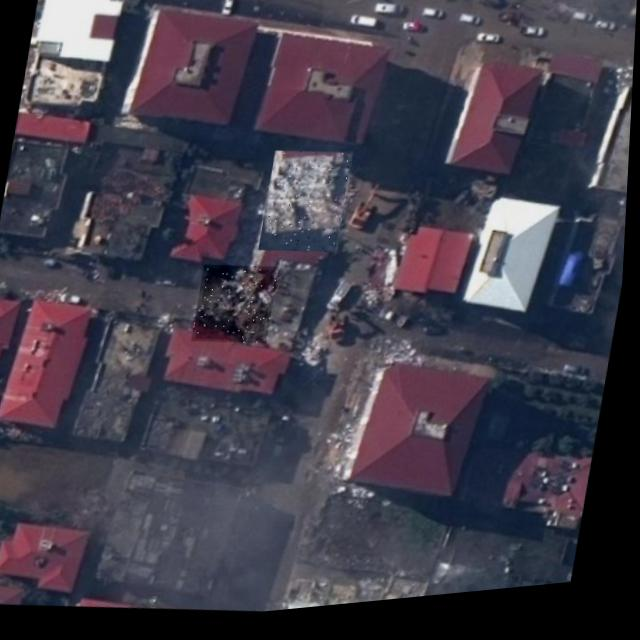Rubble: (260, 150, 353, 265), (193, 263, 281, 354)
